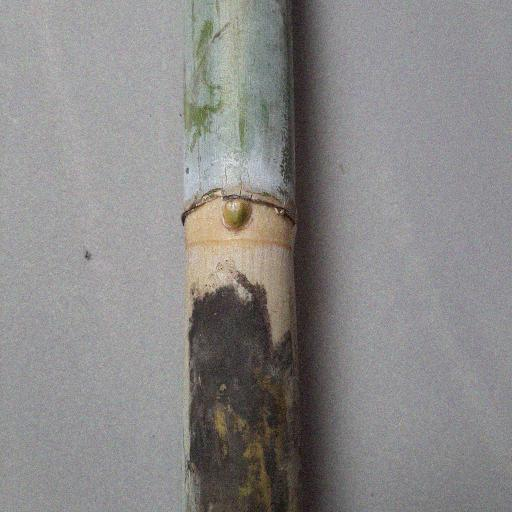Bud: (220, 197, 253, 234)
